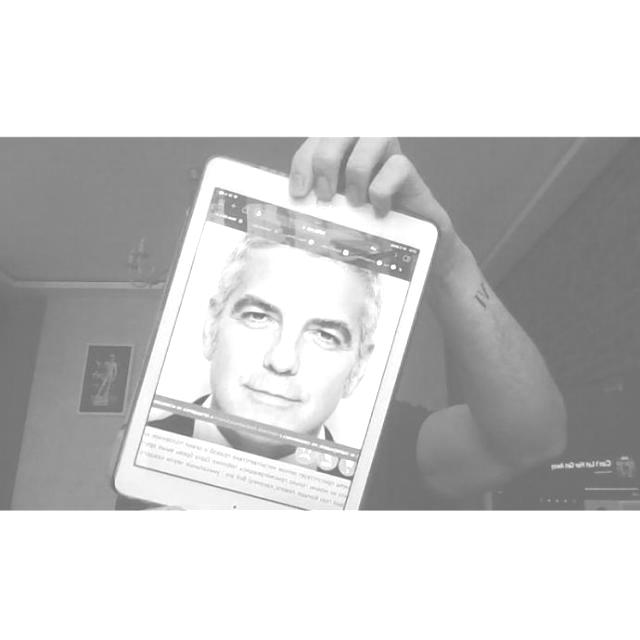fake: (98, 149, 444, 509)
